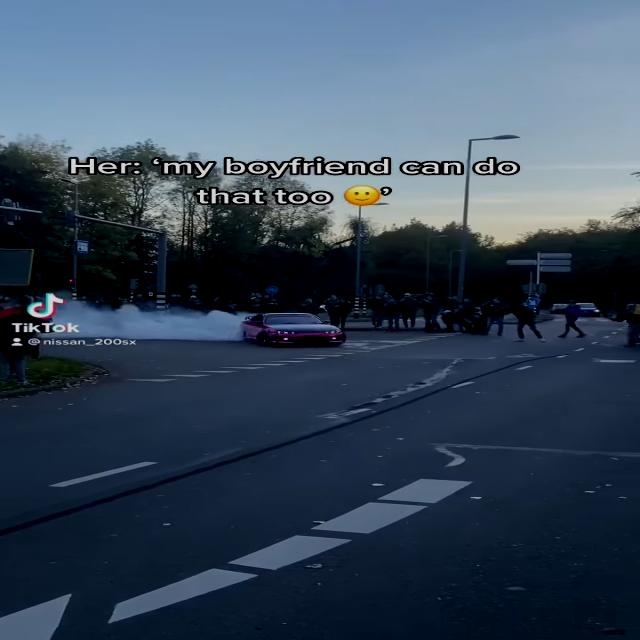car: (237, 312, 352, 350)
